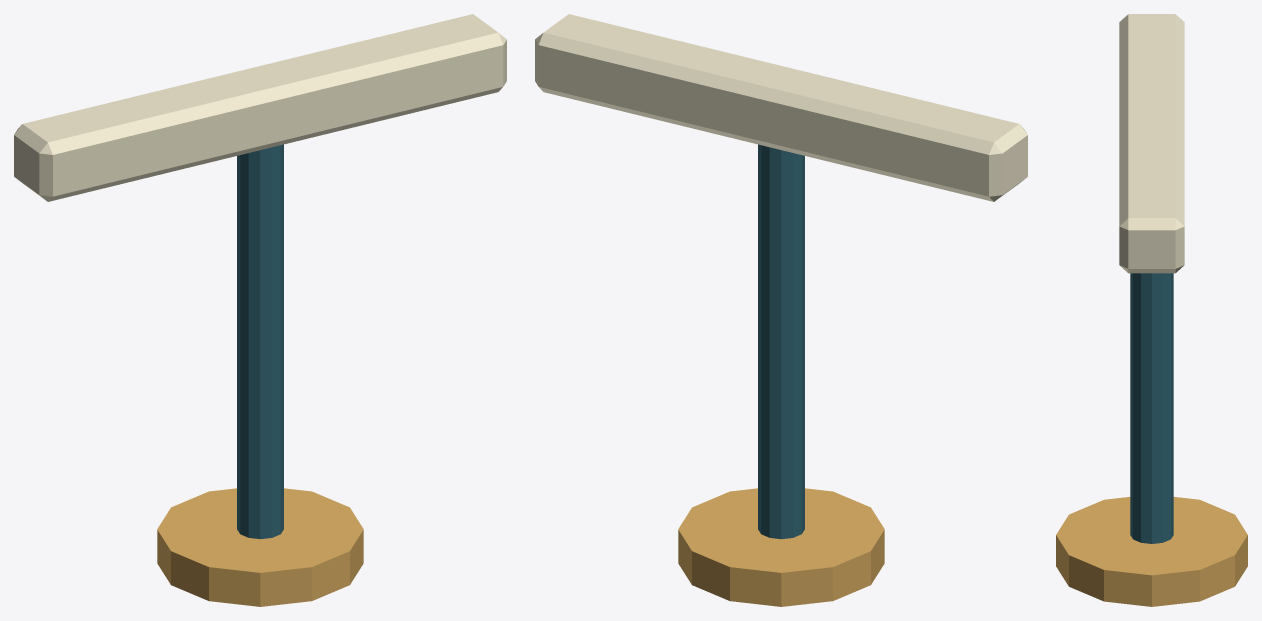
File: roof-sonar.glb
The picture shows the model from 3 angles, left to right: view 1: azimuth 30°, elevation 25°; view 2: azimuth 150°, elevation 25°; view 3: azimuth 270°, elevation 25°; orthographic projection. The views are drawn at different scales.
Parts seen in each view (by area): view 1: sonar_radar_bar, sonar_mount, sonar_mast; view 2: sonar_radar_bar, sonar_mount, sonar_mast; view 3: sonar_radar_bar, sonar_mount, sonar_mast.
Part boxes in pixels (left/top/right/bottom): sonar_radar_bar: left=14, top=14, right=506, bottom=201; sonar_mount: left=157, top=488, right=363, bottom=606; sonar_mast: left=237, top=144, right=283, bottom=539; sonar_radar_bar: left=535, top=14, right=1027, bottom=201; sonar_mount: left=678, top=488, right=884, bottom=606; sonar_mast: left=758, top=144, right=804, bottom=539; sonar_radar_bar: left=1119, top=14, right=1184, bottom=273; sonar_mount: left=1056, top=497, right=1247, bottom=606; sonar_mast: left=1130, top=273, right=1173, bottom=543.
Bounding box in the file's own units: 1.15 × 1.14 × 0.44.
